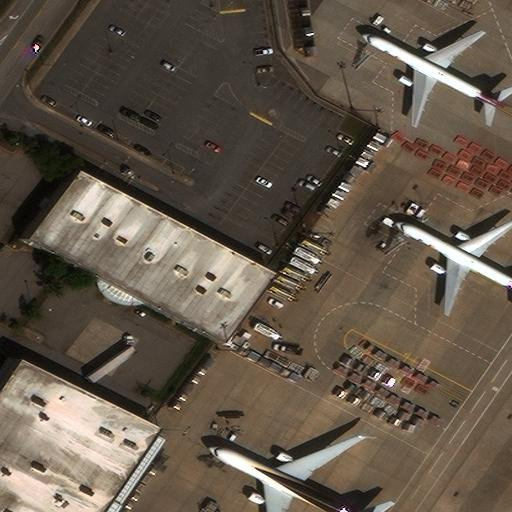Large Civil Transport: (361, 30, 502, 125), (208, 433, 373, 512), (395, 219, 512, 314)
